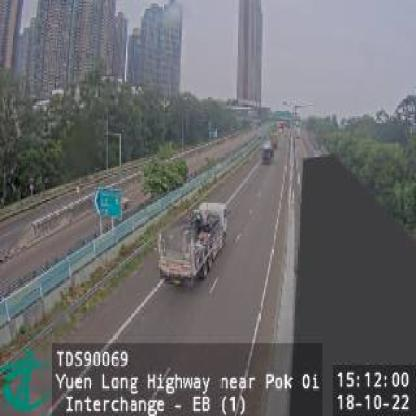Truck: (156, 200, 230, 291), (260, 141, 275, 165)
